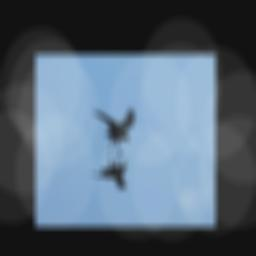Crow: (92, 107, 136, 156)
